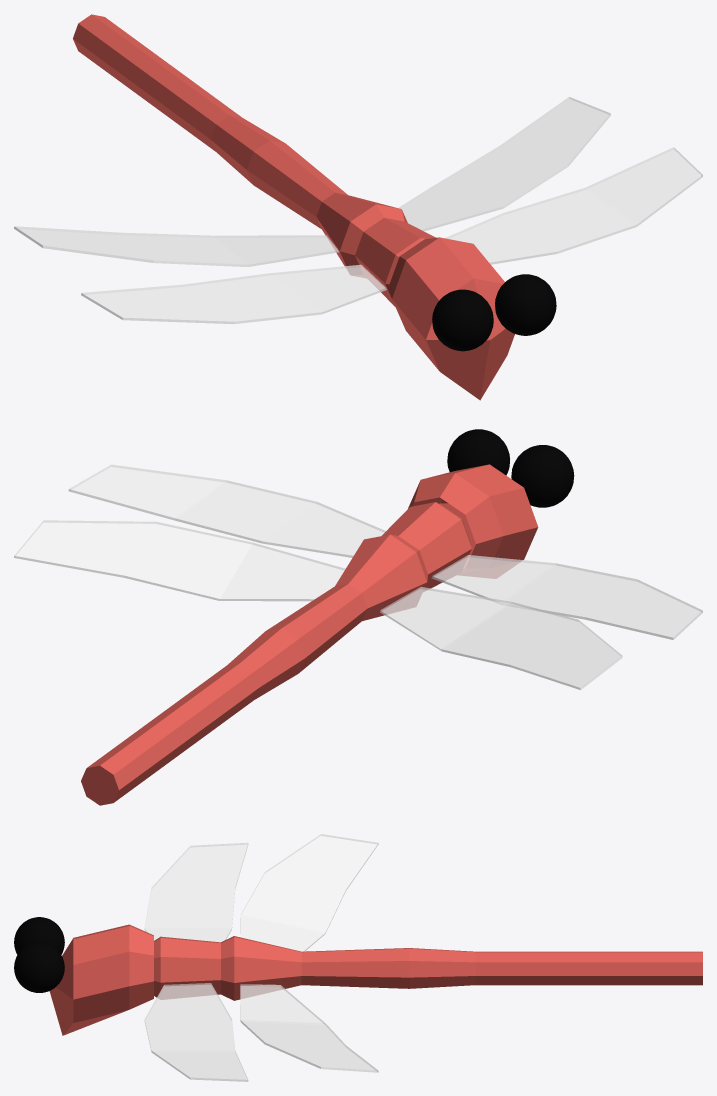
File: tonbo.glb
3 views of the same model, one above another, from view 1: azimuth 30°, elevation 25°; view 2: azimuth 150°, elevation 25°; view 3: azimuth 270°, elevation 25° (orthographic). The views are drawn at different scales.
Parts seen in each view (by area): view 1: 平面, 円, 球; view 2: 平面, 円, 球; view 3: 円, 平面, 球.
Part boxes in pixels (x1,y1,x2,y2): 平面: (14,97,702,324); 円: (73,14,514,400); 球: (432,274,556,351); 平面: (14,464,702,690); 円: (81,464,538,805); 球: (447,429,574,507); 円: (49,924,702,1035); 平面: (144,834,378,1081); 球: (14,917,64,992).
Bounding box in the file's own units: 2.37 × 0.5101 × 2.9.
